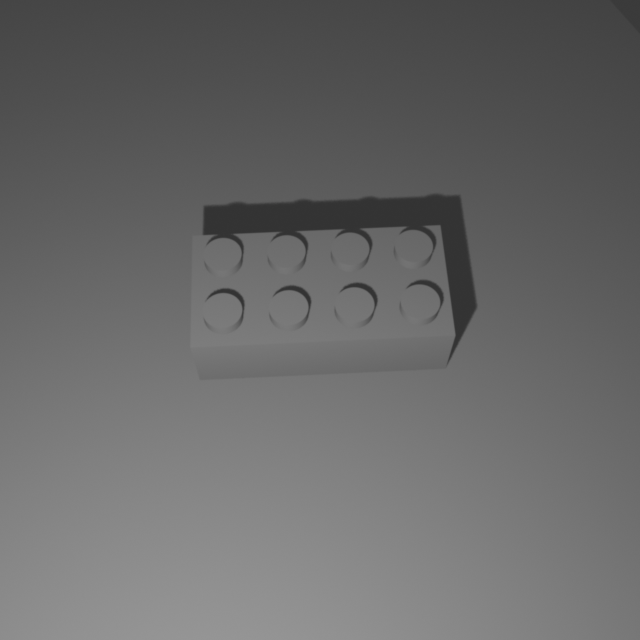lego_2x4: (189, 218, 457, 380)
